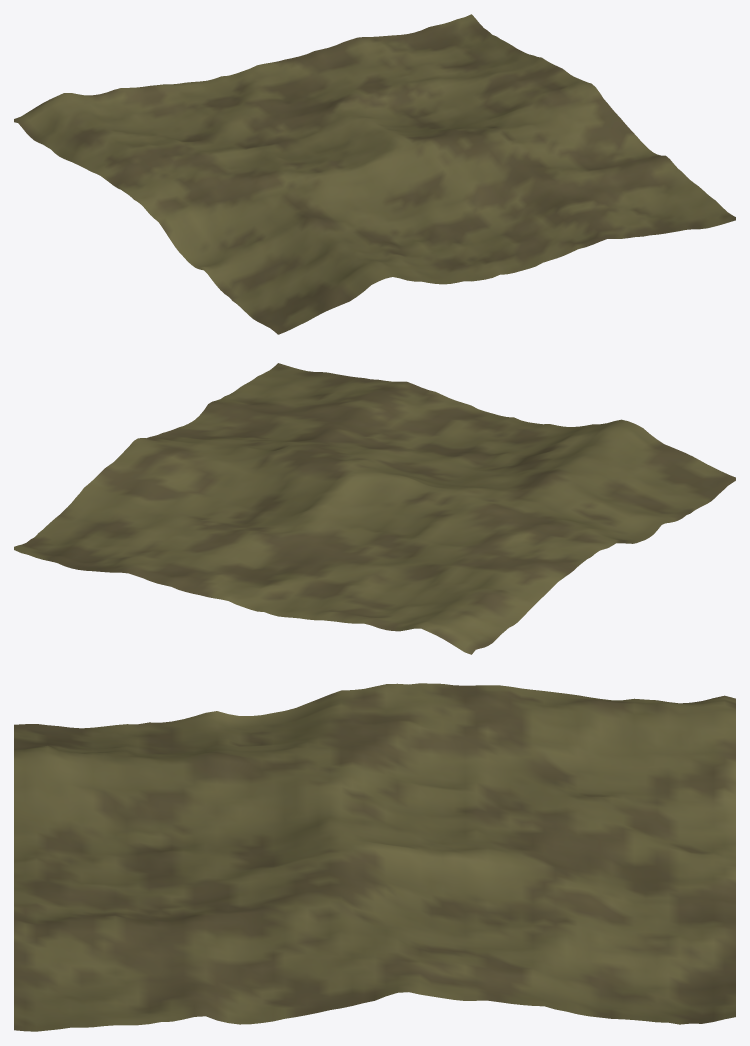
File: land_f_00_04.glb
3 renders of one model, top to bottom at view 1: azimuth 30°, elevation 25°; view 2: azimuth 150°, elevation 25°; view 3: azimuth 270°, elevation 25°, orthographic. The views are drawn at different scales.
Parts seen in each view (by area): view 1: land_f_00_04; view 2: land_f_00_04; view 3: land_f_00_04.
Boxes of the visible parts, x1=… form: land_f_00_04: x1=14, y1=14, x2=735, y2=334; land_f_00_04: x1=14, y1=363, x2=735, y2=654; land_f_00_04: x1=14, y1=683, x2=735, y2=1031.
Size of the model in its own units: 3840 by 332 by 3840.
